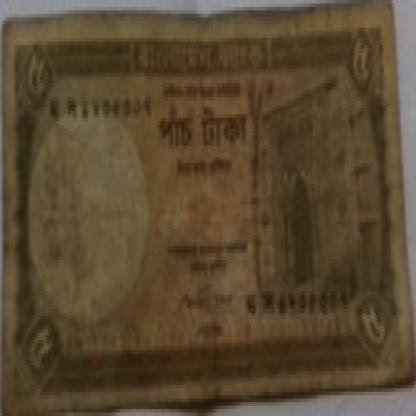Five Taka: (150, 90, 251, 160), (358, 305, 396, 371), (350, 24, 376, 97), (23, 45, 50, 108), (25, 322, 55, 378)
